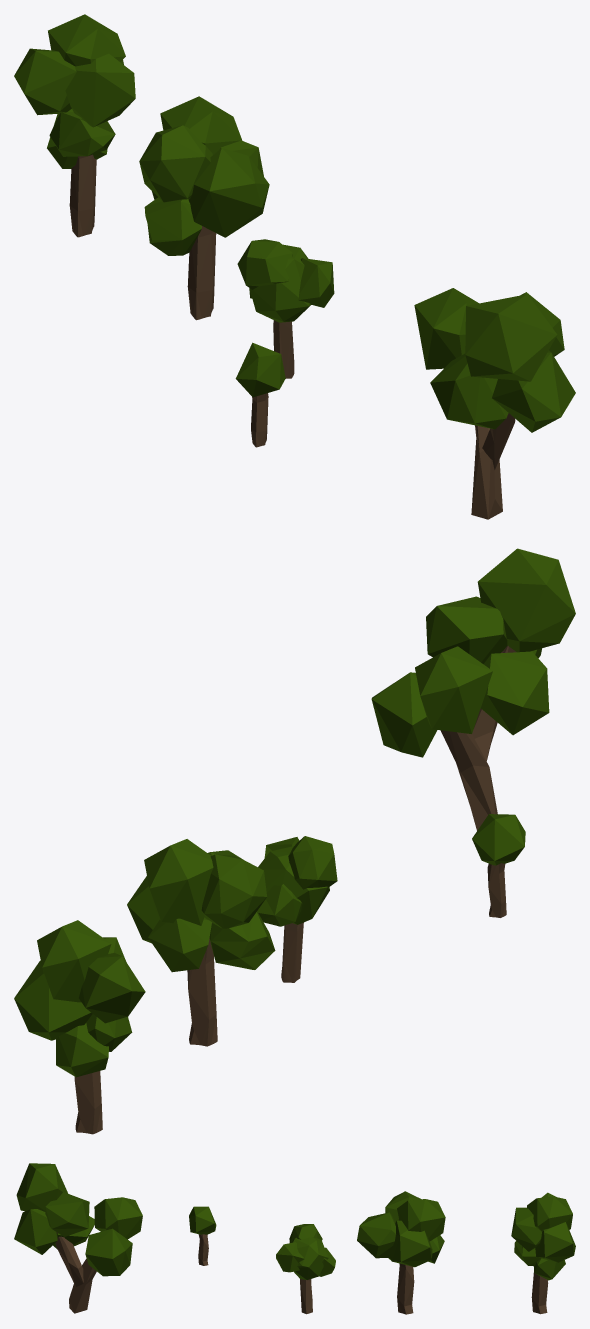
The model's file is trees02.FBX.
The picture shows the model from 3 angles, top to bottom: view 1: azimuth 30°, elevation 25°; view 2: azimuth 150°, elevation 25°; view 3: azimuth 270°, elevation 25°; orthographic projection. The views are drawn at different scales.
Visible parts, largest first — view 1: GeoSphere042, GeoSphere028, GeoSphere024, GeoSphere043, GeoSphere035, GeoSphere039, GeoSphere040, GeoSphere031, GeoSphere036, GeoSphere029, GeoSphere027, GeoSphere018 (+10 smaller); view 2: GeoSphere042, GeoSphere040, GeoSphere039, GeoSphere029, GeoSphere041, GeoSphere036, GeoSphere024, GeoSphere044, GeoSphere031, GeoSphere034, Cylinder007, GeoSphere027 (+13 smaller); view 3: GeoSphere042, GeoSphere044, GeoSphere040, GeoSphere041, GeoSphere029, GeoSphere028, GeoSphere023, GeoSphere043, GeoSphere034, GeoSphere036, GeoSphere018, GeoSphere035 (+15 smaller).
Part boxes in pixels (x1=…): GeoSphere042: x1=465, y1=294, x2=557, y2=381; GeoSphere028: x1=188, y1=148, x2=269, y2=237; GeoSphere024: x1=139, y1=125, x2=212, y2=202; GeoSphere043: x1=492, y1=350, x2=575, y2=432; GeoSphere035: x1=65, y1=53, x2=135, y2=127; GeoSphere039: x1=430, y1=353, x2=508, y2=429; GeoSphere040: x1=414, y1=288, x2=478, y2=369; GeoSphere031: x1=14, y1=48, x2=76, y2=115; GeoSphere036: x1=48, y1=14, x2=125, y2=66; GeoSphere029: x1=160, y1=96, x2=242, y2=154; GeoSphere027: x1=144, y1=197, x2=201, y2=255; GeoSphere018: x1=249, y1=244, x2=311, y2=322; GeoSphere042: x1=477, y1=548, x2=575, y2=652; GeoSphere040: x1=415, y1=646, x2=492, y2=733; GeoSphere039: x1=481, y1=651, x2=549, y2=735; GeoSphere029: x1=144, y1=839, x2=213, y2=925; GeoSphere041: x1=426, y1=596, x2=507, y2=663; GeoSphere036: x1=37, y1=920, x2=111, y2=1002; GeoSphere024: x1=201, y1=854, x2=266, y2=928; GeoSphere044: x1=371, y1=672, x2=437, y2=757; GeoSphere031: x1=79, y1=952, x2=145, y2=1023; GeoSphere034: x1=14, y1=960, x2=92, y2=1040; Cylinder007: x1=440, y1=730, x2=497, y2=830; GeoSphere027: x1=209, y1=911, x2=275, y2=969; GeoSphere042: x1=16, y1=1163, x2=67, y2=1211; GeoSphere044: x1=85, y1=1228, x2=132, y2=1276; GeoSphere040: x1=94, y1=1197, x2=142, y2=1239; GeoSphere041: x1=45, y1=1192, x2=89, y2=1236; GeoSphere029: x1=397, y1=1199, x2=445, y2=1241; GeoSphere028: x1=357, y1=1212, x2=395, y2=1258; GeoSphere023: x1=390, y1=1220, x2=432, y2=1267; GeoSphere043: x1=14, y1=1209, x2=57, y2=1254; GeoSphere034: x1=535, y1=1222, x2=575, y2=1262; GeoSphere036: x1=527, y1=1196, x2=572, y2=1231; GeoSphere018: x1=292, y1=1237, x2=328, y2=1279; GeoSphere035: x1=511, y1=1207, x2=541, y2=1251.
Bounding box in the file's own units: 14.47 × 15.38 × 53.43.
